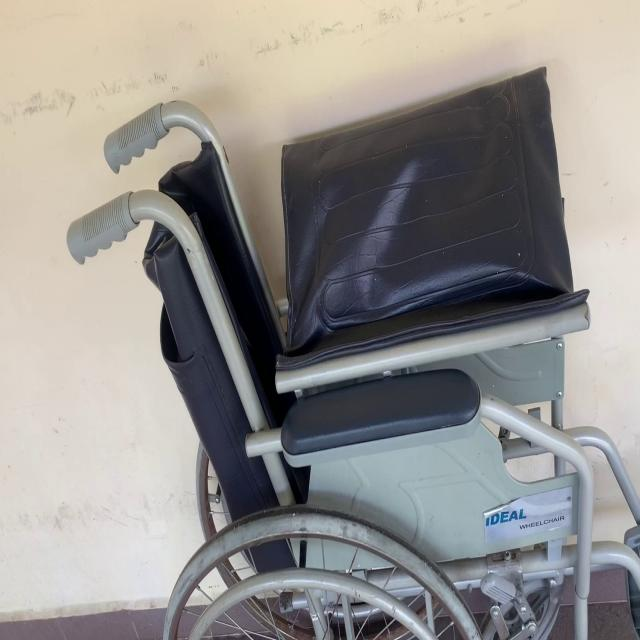wheelchair: (63, 71, 640, 640)
